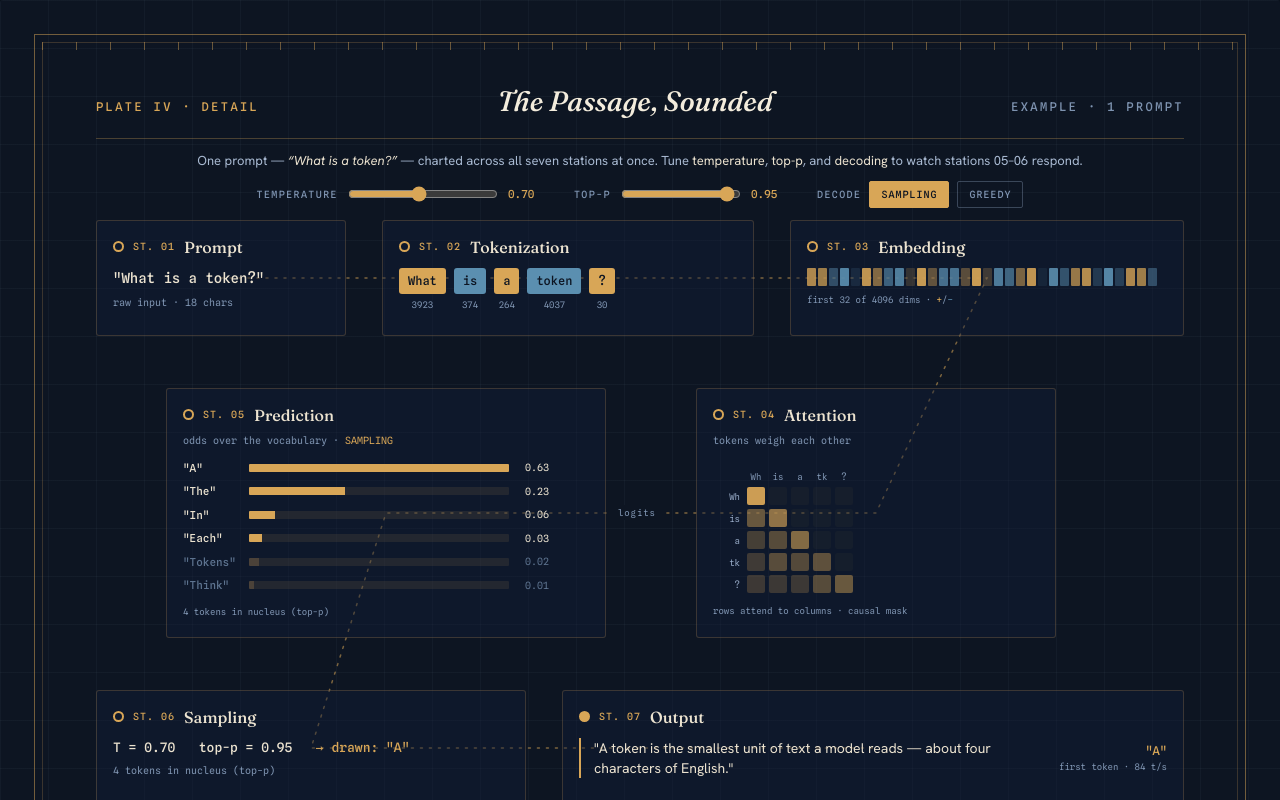
Scenario: PlateIVDetail — The Passage, Sounded › switches to greedy decode and back to sampling
Click the button "GREEDY" at {"x": 990, "y": 194}, box [957,180,1023,208]
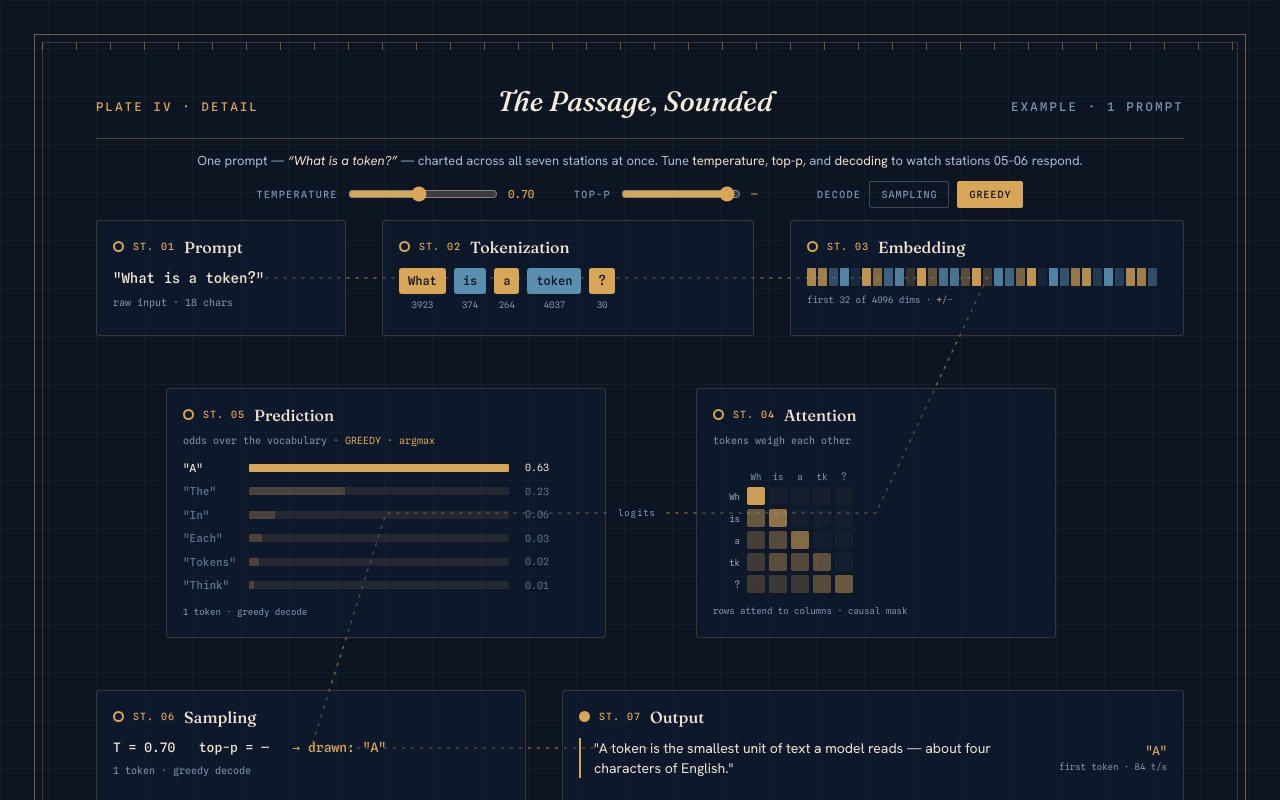
Expected: the text "1 token · greedy decode" is shown 2 times, [183,606,307,616]; [113,764,251,776]
Expected: the text "GREEDY · argmax" is shown, [345,434,435,446]
Expected: the text "—" is shown, [751,187,758,201]
Click the button "SAMPLING" at {"x": 909, "y": 194}, box [869,180,949,208]
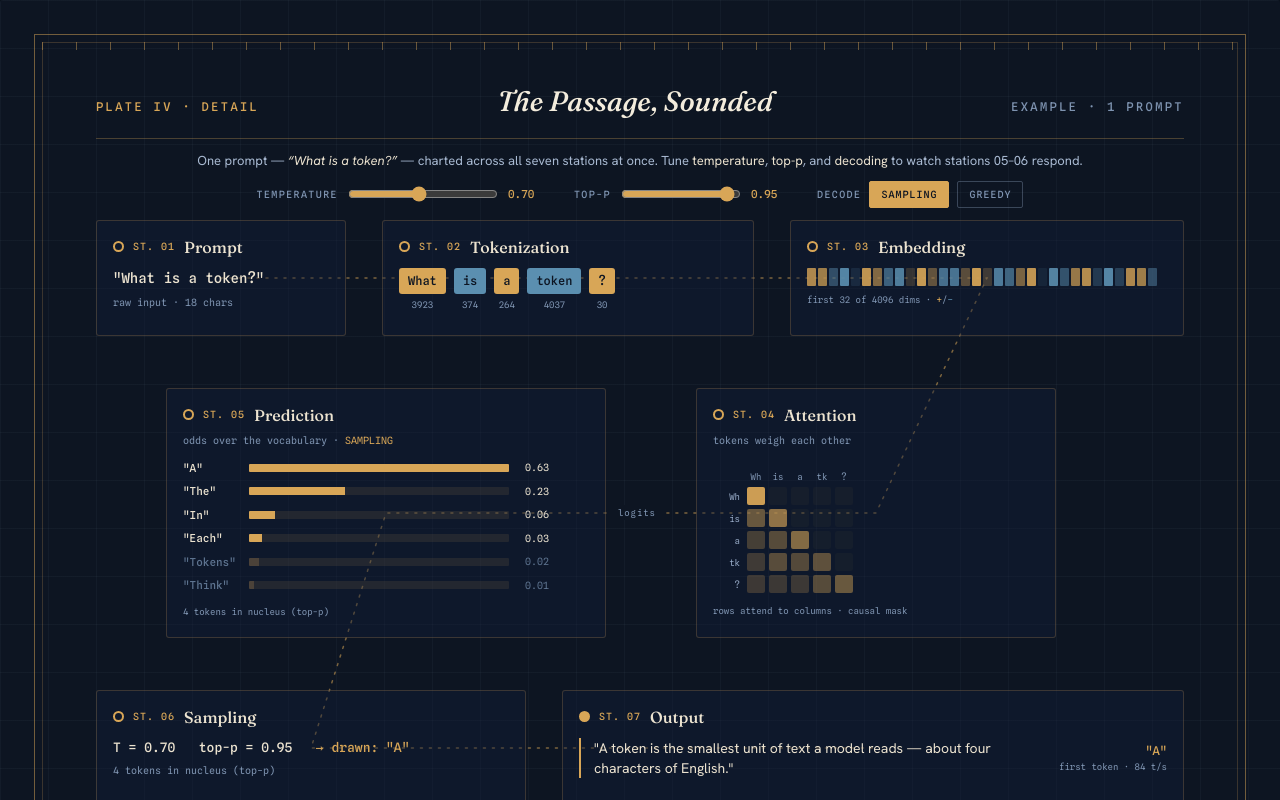
Expected: the text "4 tokens in nucleus (top-p)" is shown 2 times, [183,606,329,616]; [113,764,275,776]
Expected: the text "0.95" is shown, [751,187,777,201]
